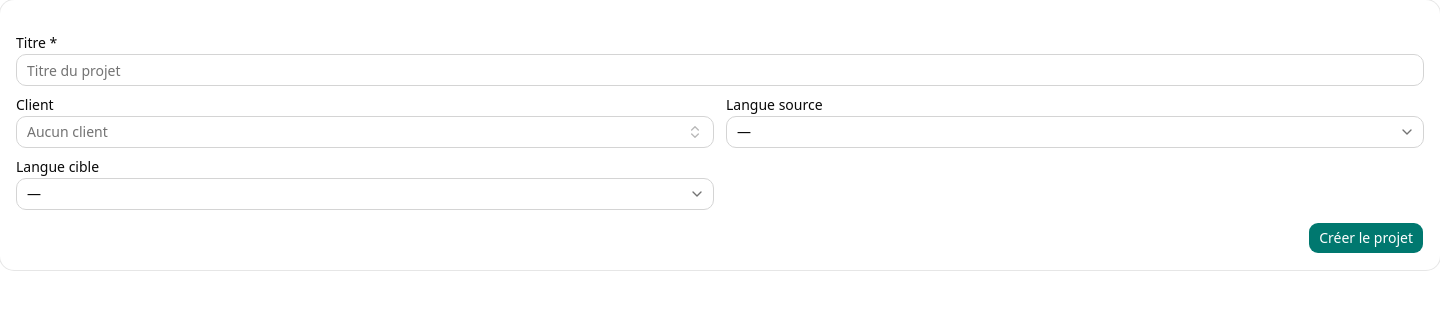
Test: CreateProjectForm › renders French copy when locale is fr
Click the button "Créer le projet".
click(1366, 238)  # box top-left (1308, 222), bottom-right (1424, 254)
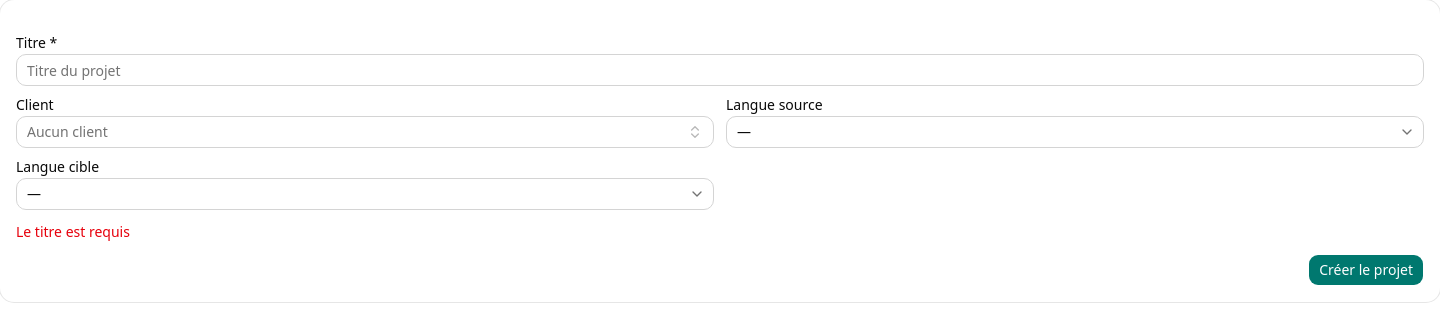
Result: the text "Le titre est requis" is shown at top-left (16, 222), bottom-right (130, 241)
